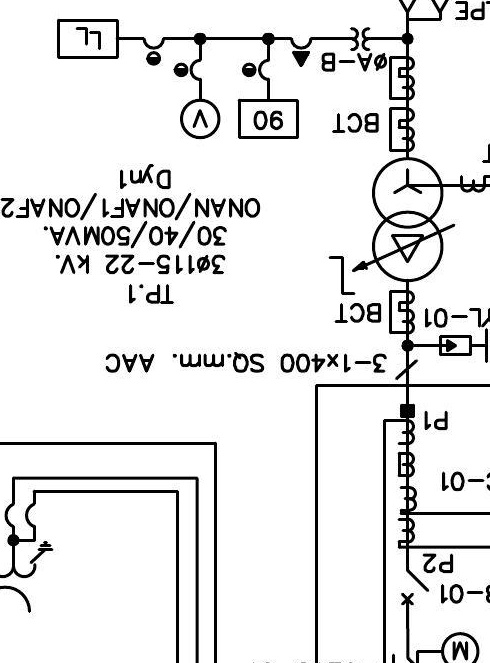11522_tx_dyn1: (371, 156, 444, 283)
115_breaker: (400, 569, 430, 606)
LL: (56, 18, 120, 60)
v_m: (179, 98, 222, 140)
